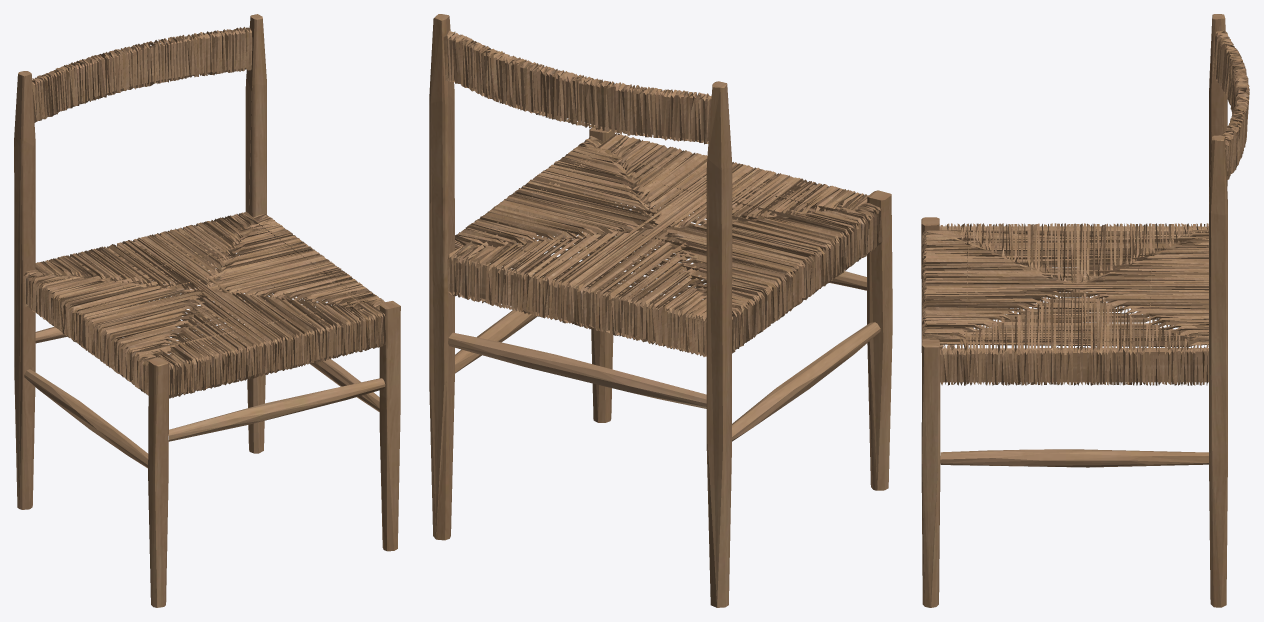
Rendered from ash-wood-chair.glb.
3 renders of one model, left to right at view 1: azimuth 30°, elevation 25°; view 2: azimuth 150°, elevation 25°; view 3: azimuth 270°, elevation 25°, orthographic. The views are drawn at different scales.
Parts seen in each view (by area): view 1: product; view 2: product; view 3: product.
Part boxes in pixels (bbox=[...]): product: bbox=[14, 14, 400, 607]; product: bbox=[429, 14, 892, 607]; product: bbox=[921, 14, 1249, 607].
Size of the model in its own units: 0.5958 by 1 by 0.6378.
1 material, 1 textured.
